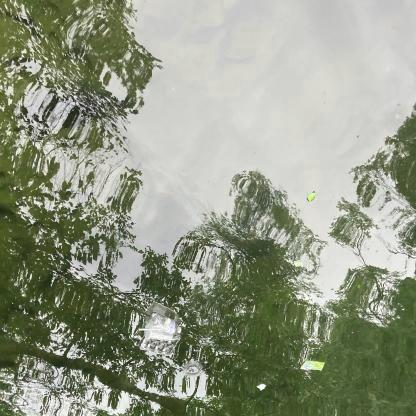Plastic: (138, 316, 181, 357)
